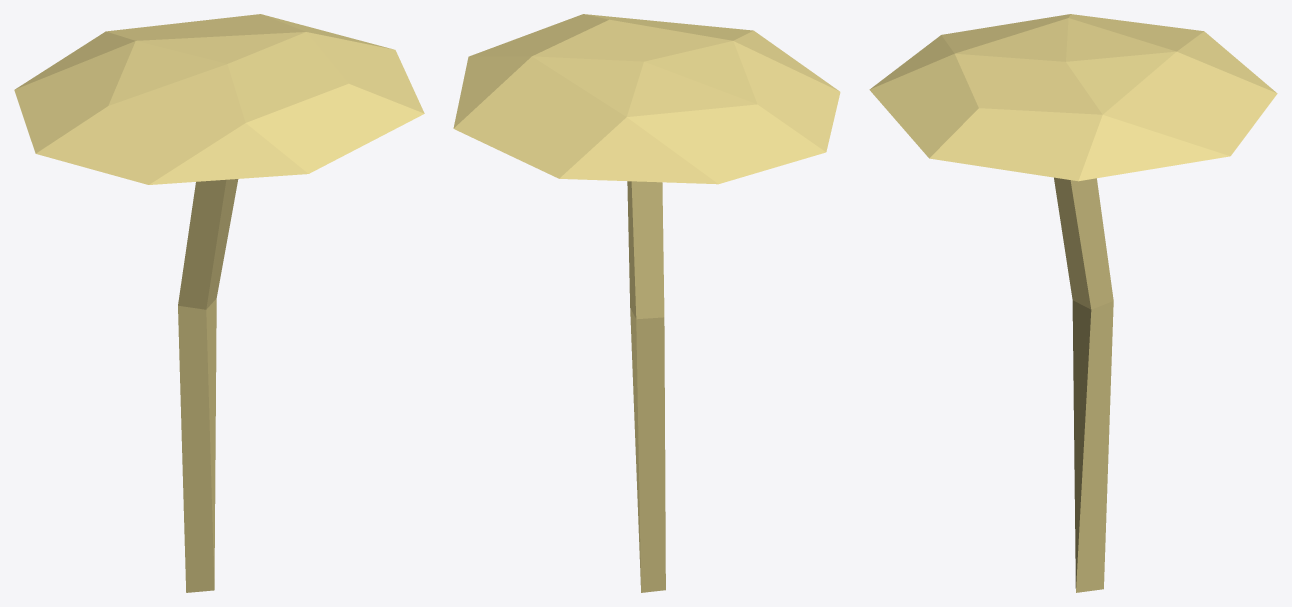
File: Mushroom_h_01.fbx
The picture shows the model from 3 angles, left to right: view 1: azimuth 30°, elevation 25°; view 2: azimuth 150°, elevation 25°; view 3: azimuth 270°, elevation 25°; orthographic projection. The views are drawn at different scales.
Parts seen in each view (by area): view 1: Mushroom_h_01; view 2: Mushroom_h_01; view 3: Mushroom_h_01.
Part boxes in pixels (x1,y1,x2,y2): Mushroom_h_01: [14, 14, 424, 592]; Mushroom_h_01: [453, 14, 840, 592]; Mushroom_h_01: [869, 14, 1277, 592].
Size of the model in its own units: 0.2108 by 0.2925 by 0.2023.
